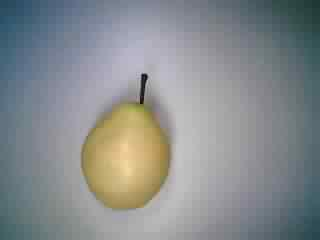pear: (73, 64, 184, 212)
